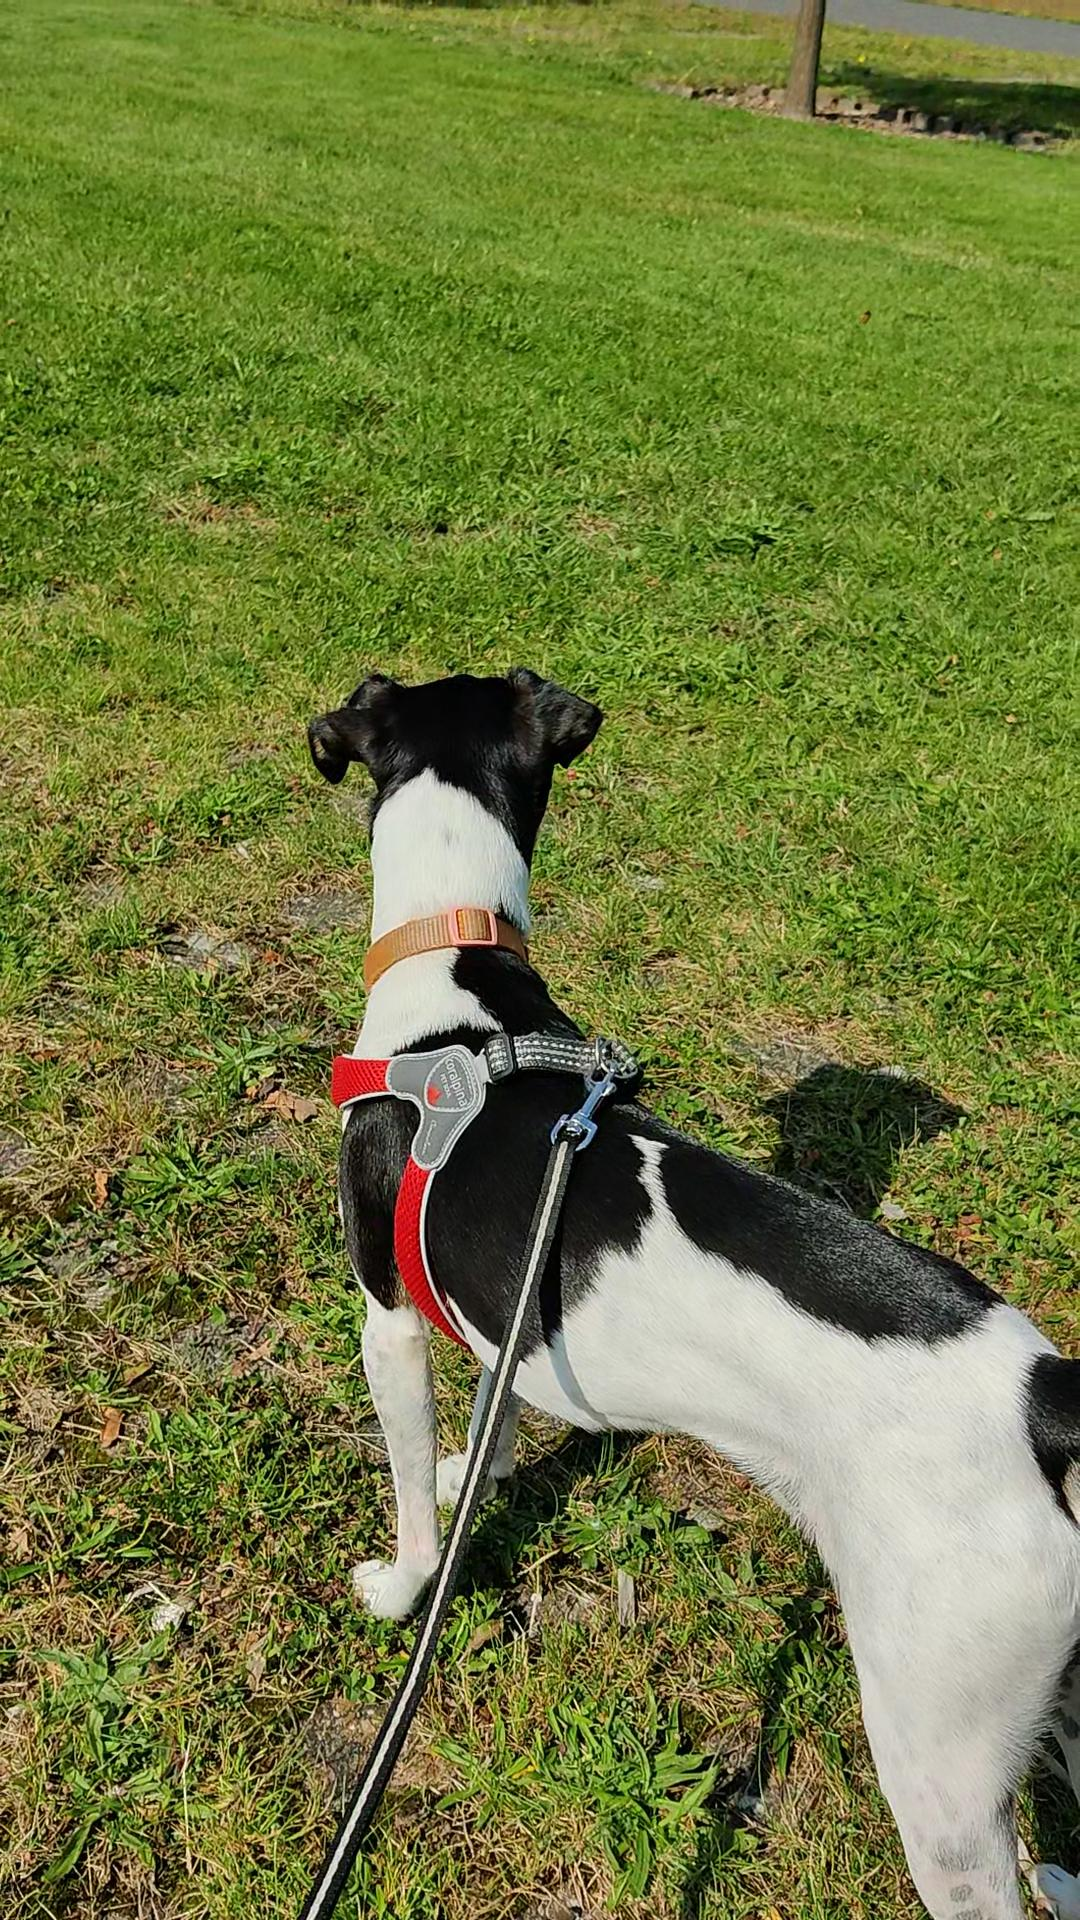Dog: (301, 657, 1079, 1919)
